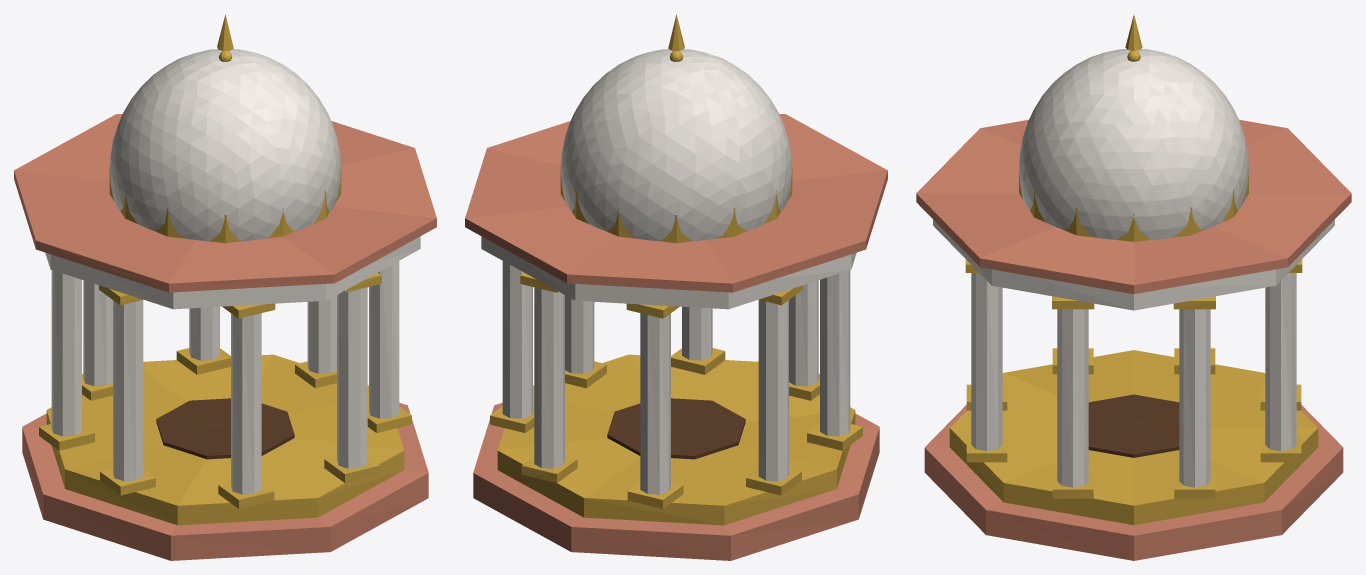
File: chhatri_pavilion.glb
3 renders of one model, left to right at view 1: azimuth 30°, elevation 25°; view 2: azimuth 150°, elevation 25°; view 3: azimuth 270°, elevation 25°, orthographic.
Visible parts, largest first — view 1: Dome, Chhajja, Pillars_primary, Plinth_accent, Plinth_secondary, Pillars_accent, Entablature, FloorMedallion, DomeDrum; view 2: Dome, Chhajja, Pillars_primary, Plinth_accent, Plinth_secondary, Pillars_accent, Entablature, FloorMedallion, DomeDrum; view 3: Dome, Chhajja, Plinth_accent, Pillars_primary, Plinth_secondary, Entablature, Pillars_accent, FloorMedallion, DomeDrum.
Boxes of the visible parts, x1,y1,x2,y2 form: Dome: (110, 49, 341, 241); Chhajja: (14, 114, 436, 292); Pillars_primary: (51, 261, 399, 494); Plinth_accent: (46, 354, 404, 525); Plinth_secondary: (22, 402, 428, 560); Pillars_accent: (39, 272, 411, 508); Entablature: (45, 236, 420, 309); FloorMedallion: (156, 398, 294, 459); DomeDrum: (109, 166, 341, 243); Dome: (560, 49, 791, 241); Chhajja: (465, 114, 887, 292); Pillars_primary: (502, 261, 850, 494); Plinth_accent: (497, 354, 855, 525); Plinth_secondary: (473, 402, 879, 560); Pillars_accent: (490, 272, 862, 508); Entablature: (481, 236, 856, 309); FloorMedallion: (607, 398, 745, 459); DomeDrum: (560, 166, 792, 243); Dome: (1019, 49, 1248, 239); Chhajja: (916, 119, 1351, 293); Plinth_accent: (949, 350, 1318, 525); Pillars_primary: (971, 273, 1296, 487); Plinth_secondary: (924, 405, 1343, 560); Entablature: (933, 219, 1334, 310); Pillars_accent: (965, 259, 1302, 498); FloorMedallion: (1088, 394, 1179, 457); DomeDrum: (1019, 172, 1248, 241).
Bounding box in the file's own units: 7.07 × 8.22 × 7.07.
